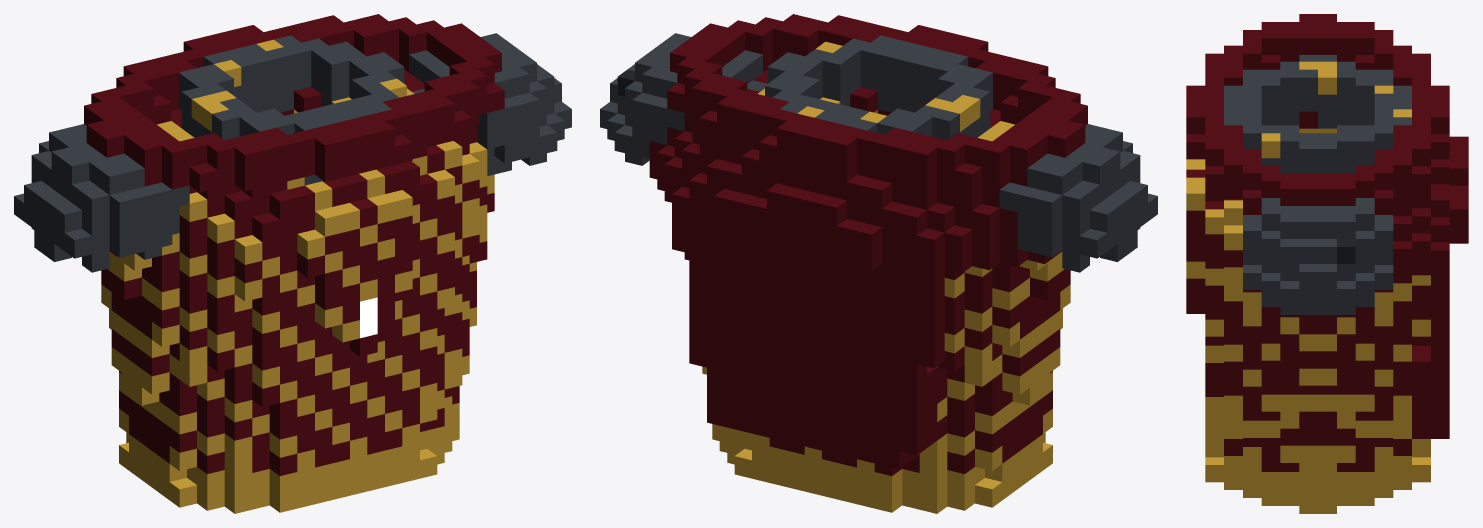
The model's file is brigandine_of_the_watch_lod1.glb.
3 renders of one model, left to right at view 1: azimuth 30°, elevation 25°; view 2: azimuth 150°, elevation 25°; view 3: azimuth 270°, elevation 25°, orthographic. The views are drawn at different scales.
Visible parts, largest first — view 1: brigandine_of_the_watch_lod1; view 2: brigandine_of_the_watch_lod1; view 3: brigandine_of_the_watch_lod1.
Part boxes in pixels (<box>): brigandine_of_the_watch_lod1: <box>14,14,571,513</box>; brigandine_of_the_watch_lod1: <box>600,14,1157,513</box>; brigandine_of_the_watch_lod1: <box>1186,14,1468,513</box>.
Bounding box in the file's own units: 0.696 × 0.48 × 0.36.
